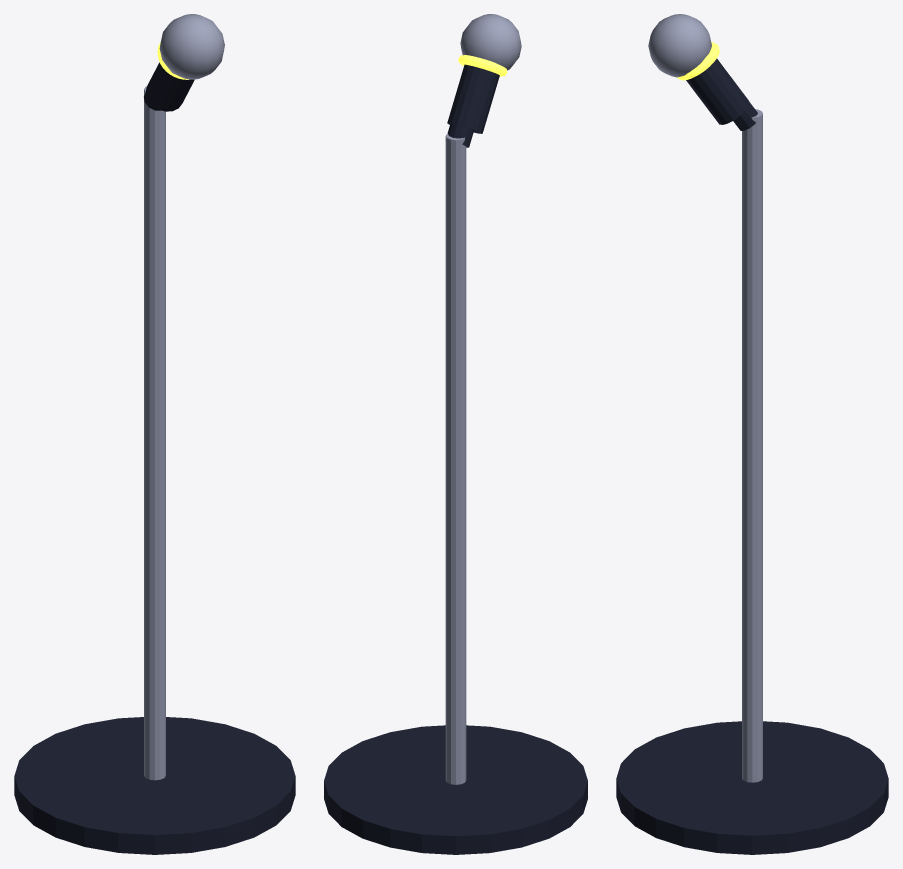
The model's file is mic_stand.glb.
3 renders of one model, left to right at view 1: azimuth 30°, elevation 25°; view 2: azimuth 150°, elevation 25°; view 3: azimuth 270°, elevation 25°, orthographic. The views are drawn at different scales.
Visible parts, largest first — view 1: base, pole, head, mic; view 2: base, pole, head, mic, clip, ring; view 3: base, pole, head, mic.
Part boxes in pixels (box(x1,y1,x2,y2)): base: box(14, 717, 295, 854); pole: box(144, 86, 165, 780); head: box(159, 14, 224, 79); mic: box(145, 62, 194, 111); base: box(324, 725, 587, 854); pole: box(445, 133, 466, 784); head: box(460, 14, 521, 70); mic: box(447, 64, 499, 133); clip: box(447, 94, 473, 147); ring: box(458, 55, 507, 76); base: box(616, 721, 888, 854); pole: box(742, 109, 762, 782); head: box(648, 14, 711, 77); mic: box(686, 58, 748, 124).
Size of the model in its own units: 0.64 by 2.03 by 0.64.
